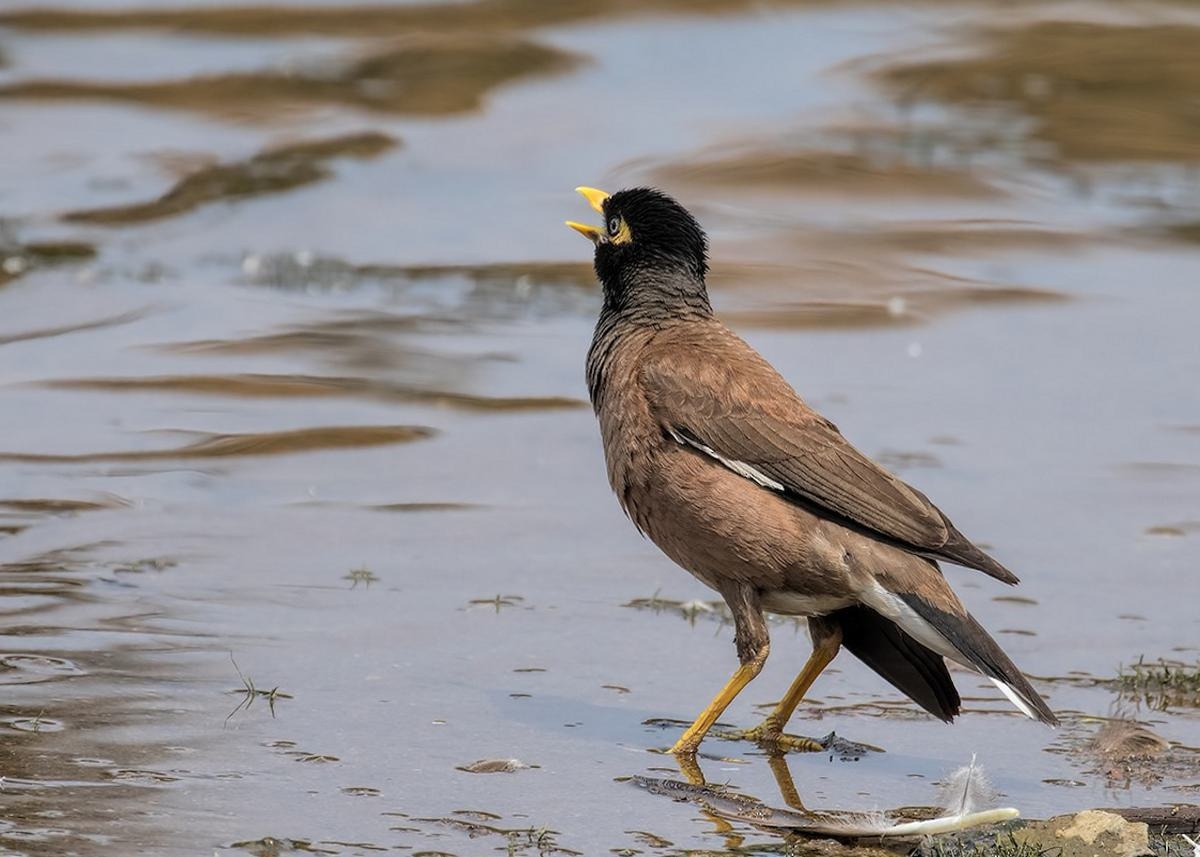myna: (555, 165, 985, 744)
